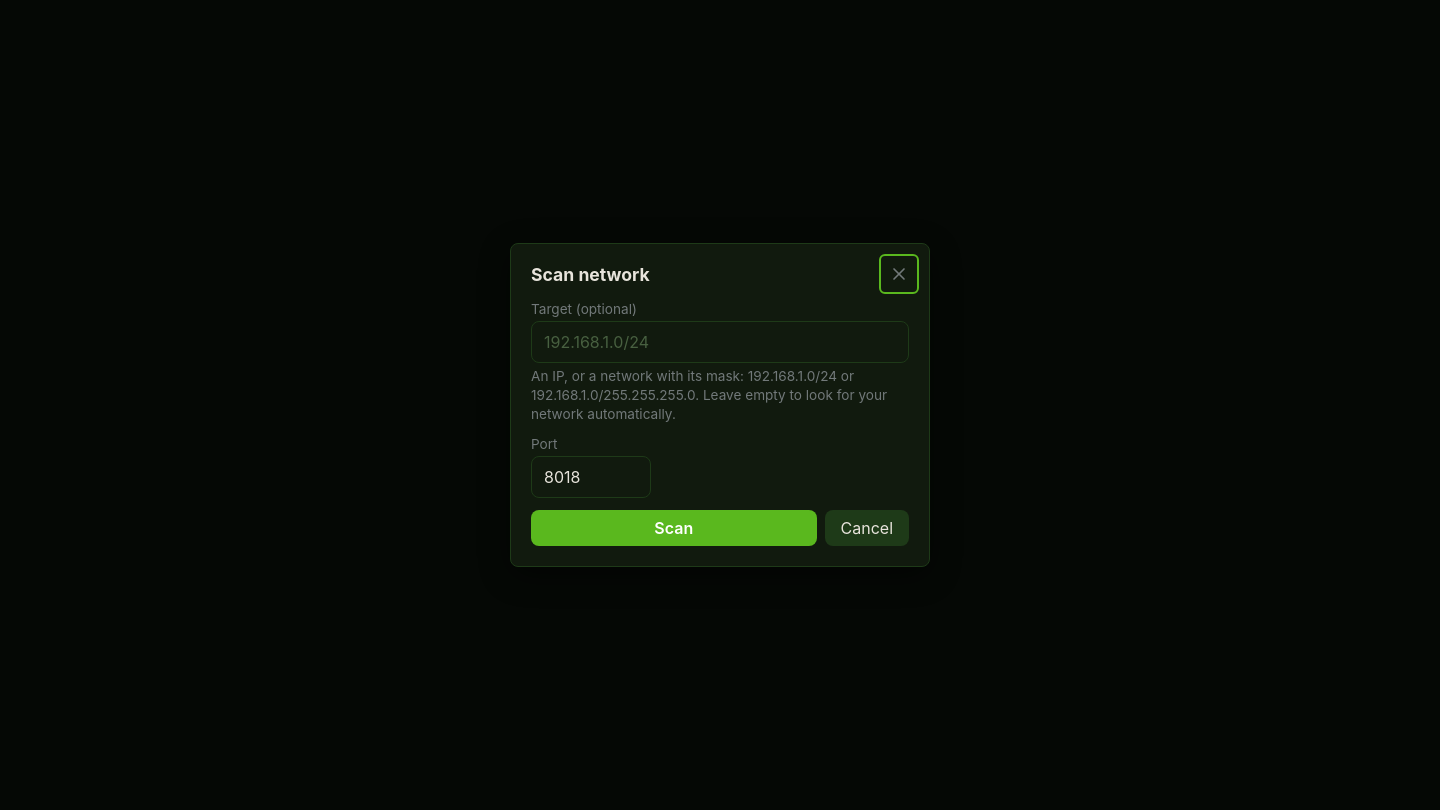
ScanModal — scanning › an invalid target stays on the form with the error
Type "10.0.0.0/16" into the field with placeholder "192.168.1.0/24" at (720, 342), box [531,321,909,363]
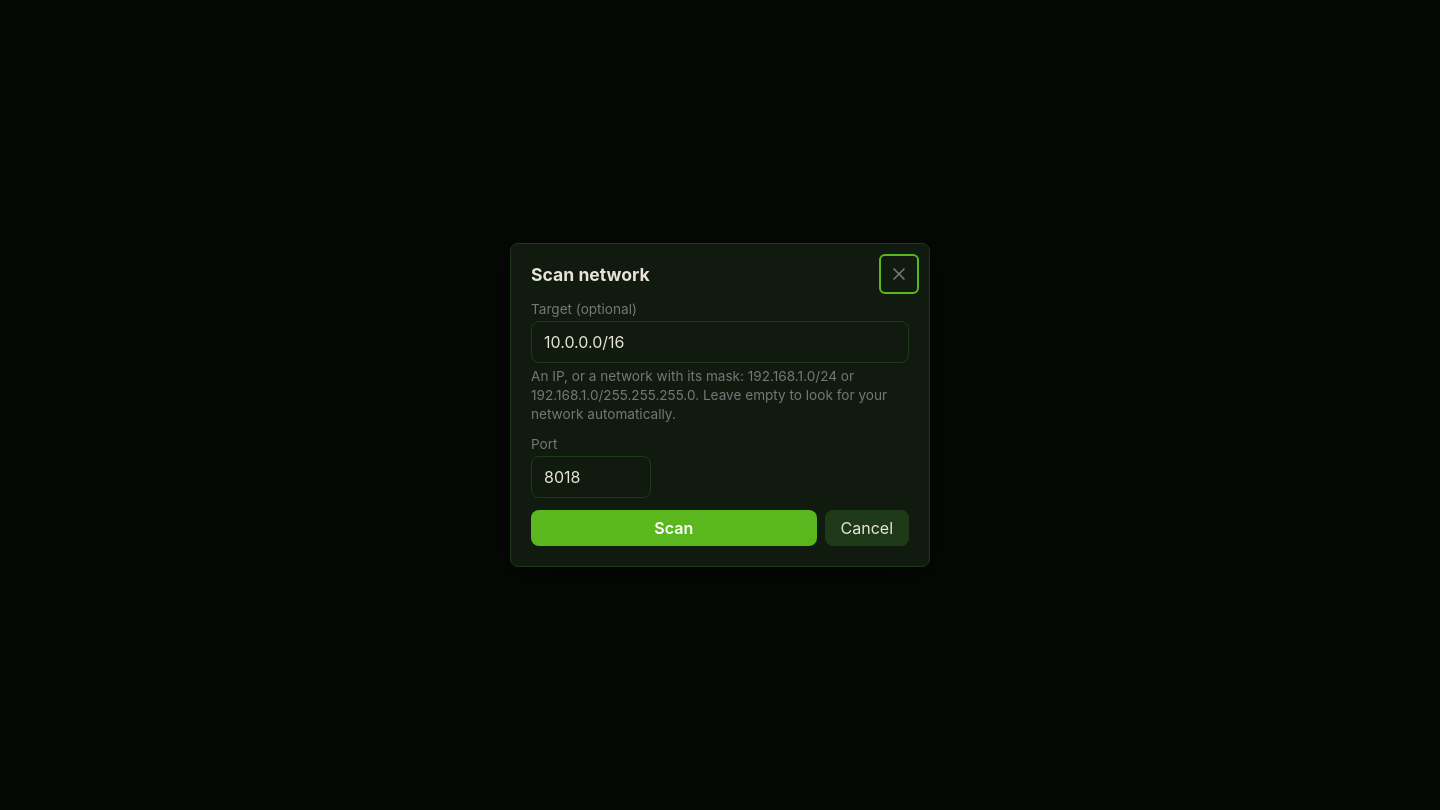
Click the button "Scan" at (674, 528), box [531,510,816,546]
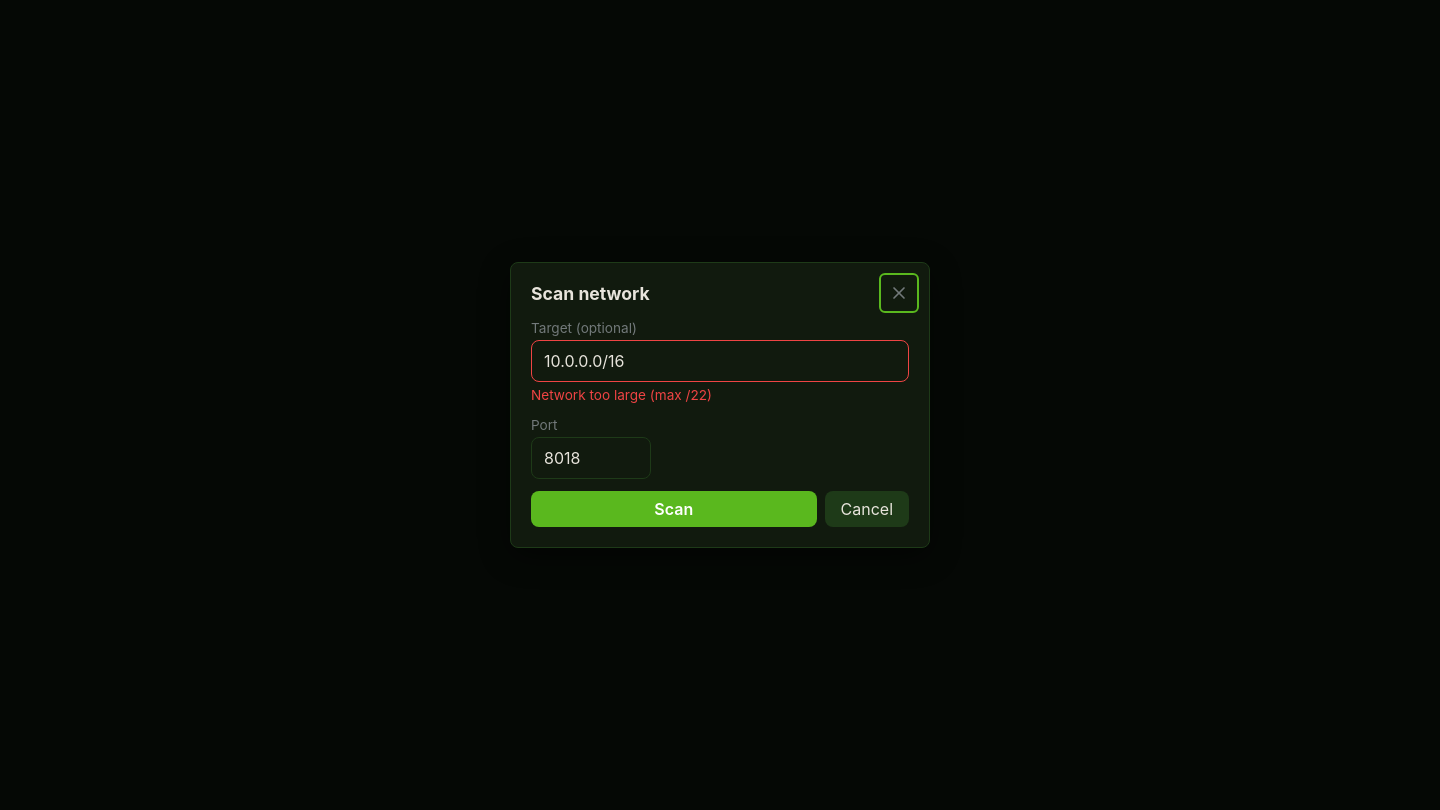
Now the text "Network too large (max /22)" is shown, box [531,387,712,403]
